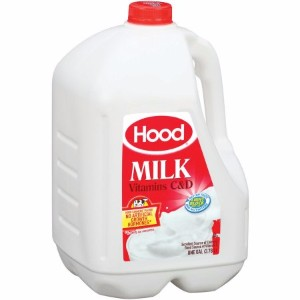milk: (58, 2, 251, 285)
